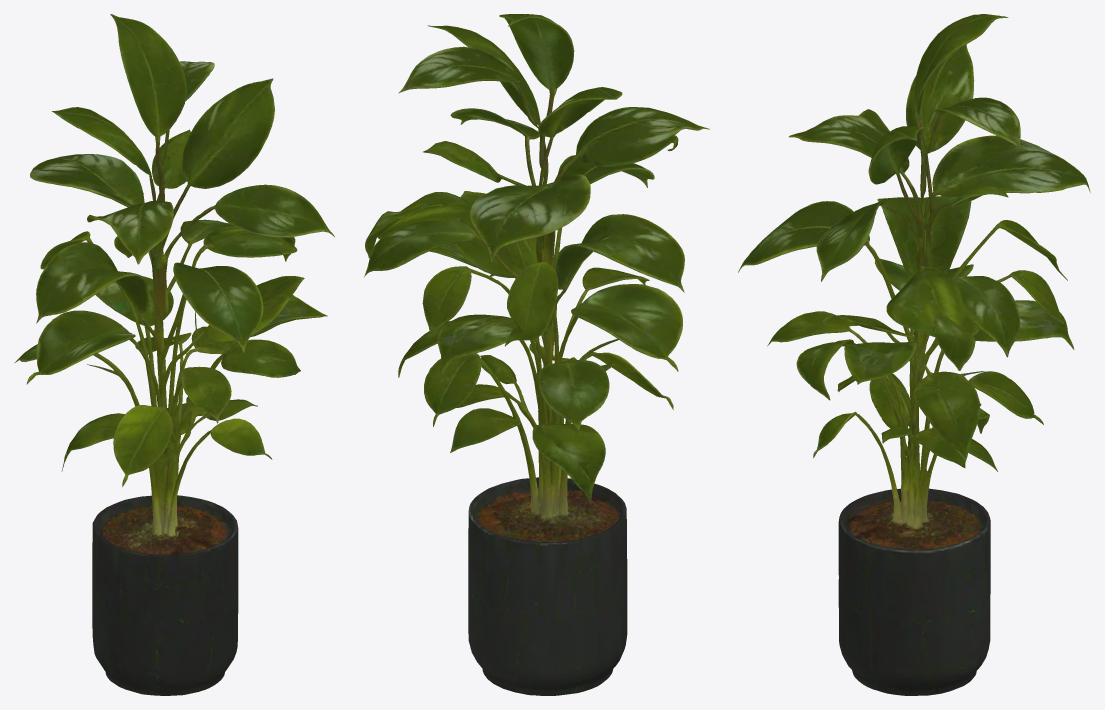
The model's file is flower-pot.glb.
The picture shows the model from 3 angles, left to right: view 1: azimuth 30°, elevation 25°; view 2: azimuth 150°, elevation 25°; view 3: azimuth 270°, elevation 25°; orthographic projection. The views are drawn at different scales.
Bounding box in the file's own units: 0.8602 × 1.9 × 0.9343.
1 material, 1 textured.
